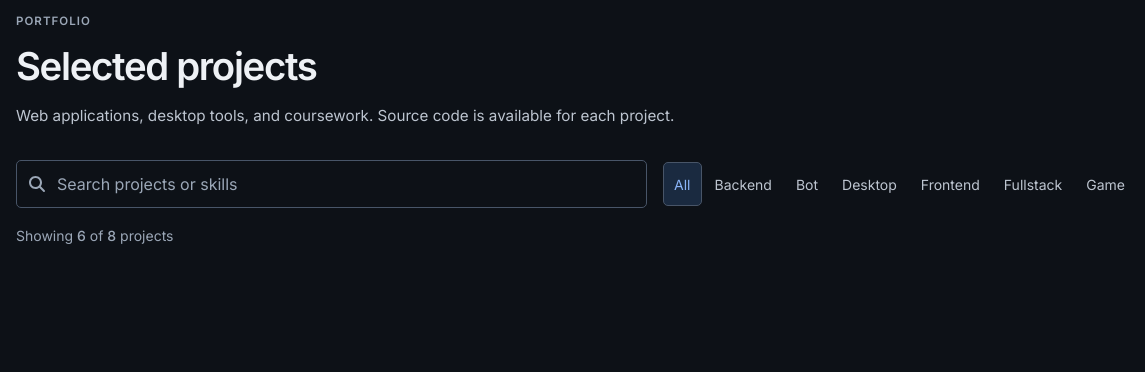
Test: Projects › shows empty state when no projects match
Type "xyznonexistent123" into the search field labelled "Search projects or skills" at (340, 184), box [55,167,624,201]
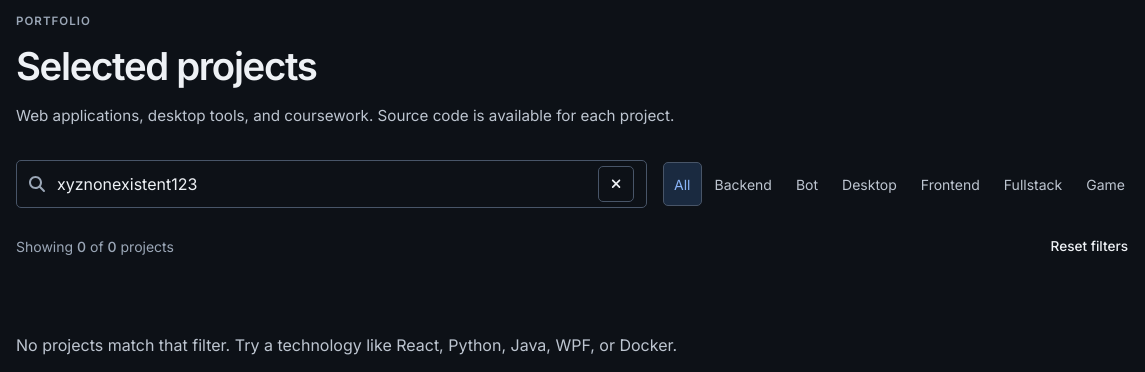
Expected: the text "No projects match that filter" is shown, [16,335,677,355]
